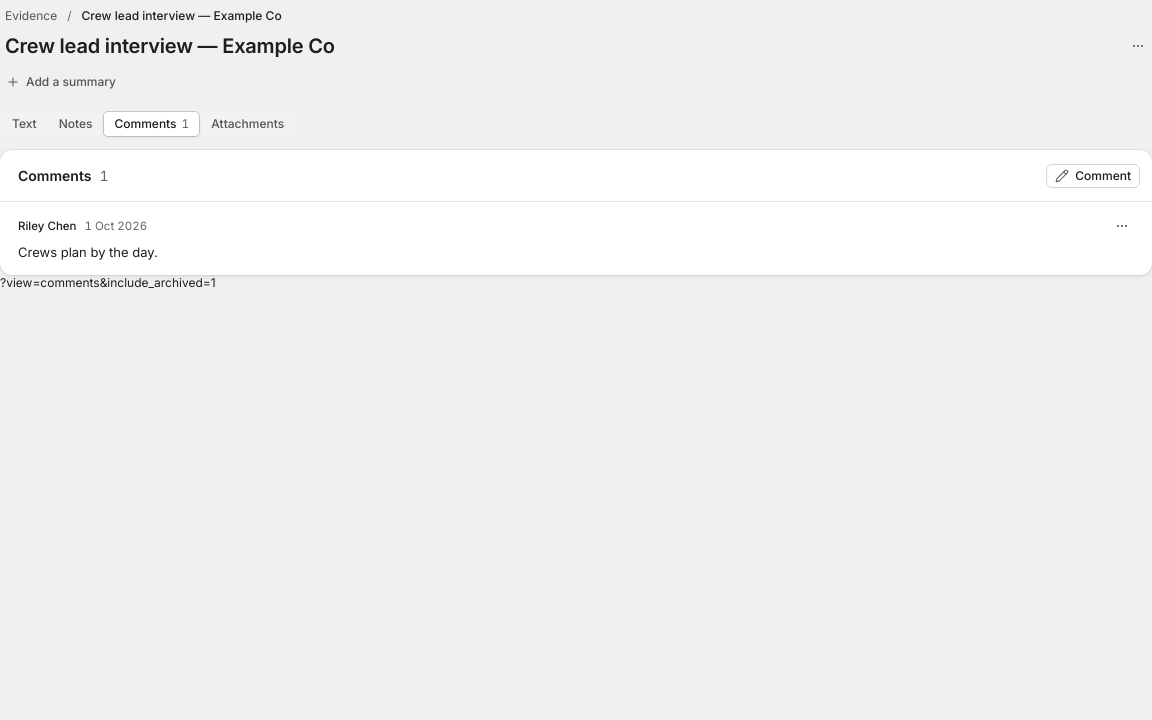
Test case: archiving a comment in the web app › archives without a reason when none is given, and says only when
This screenshot has width=1152, height=720.
Click the button named "Actions for Riley Chen’s comment from 1 Oct 2026, “Crews pla". click: (1122, 226)
box: [1110,214,1134,238]
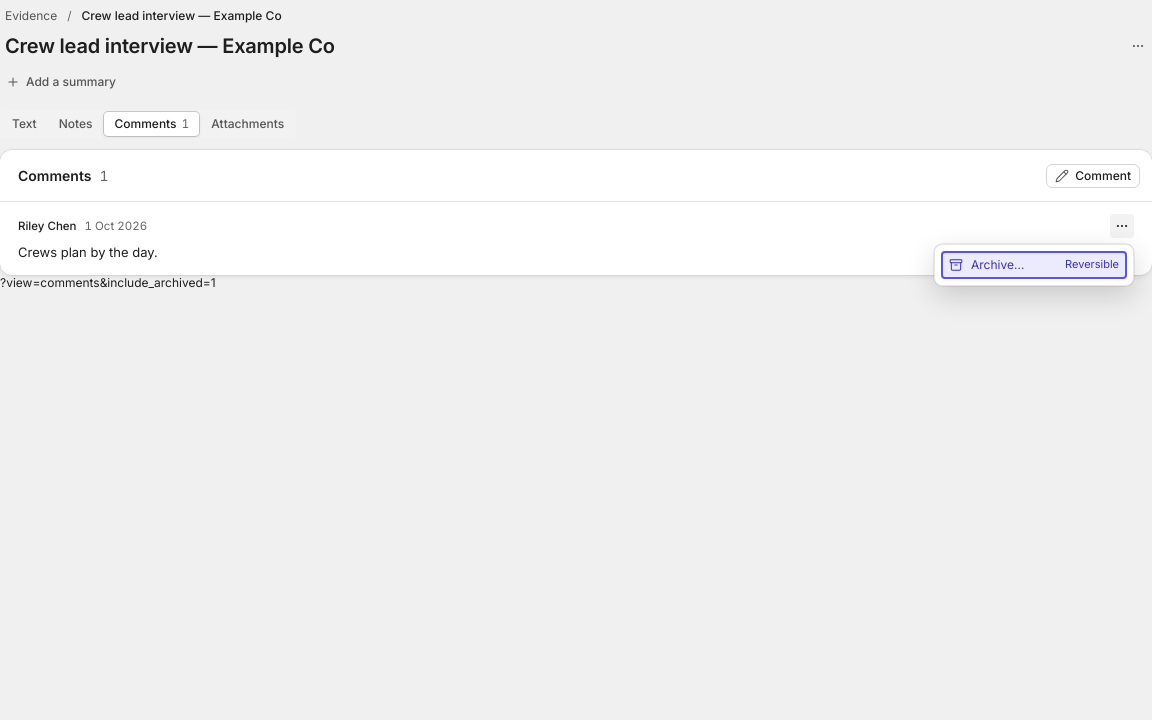
Click the menu item "Archive… Reversible". click: (1034, 265)
box: [941,251,1127,279]
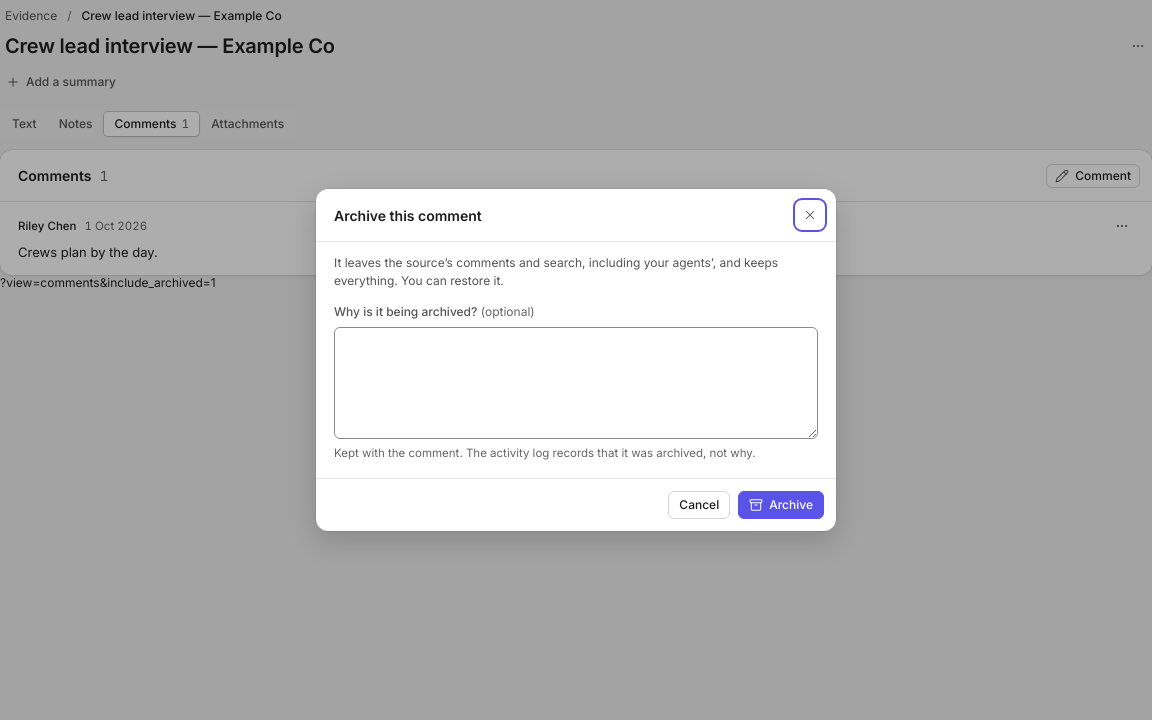
Click the button "Archive". click: (781, 505)
box: [738,491,824,519]
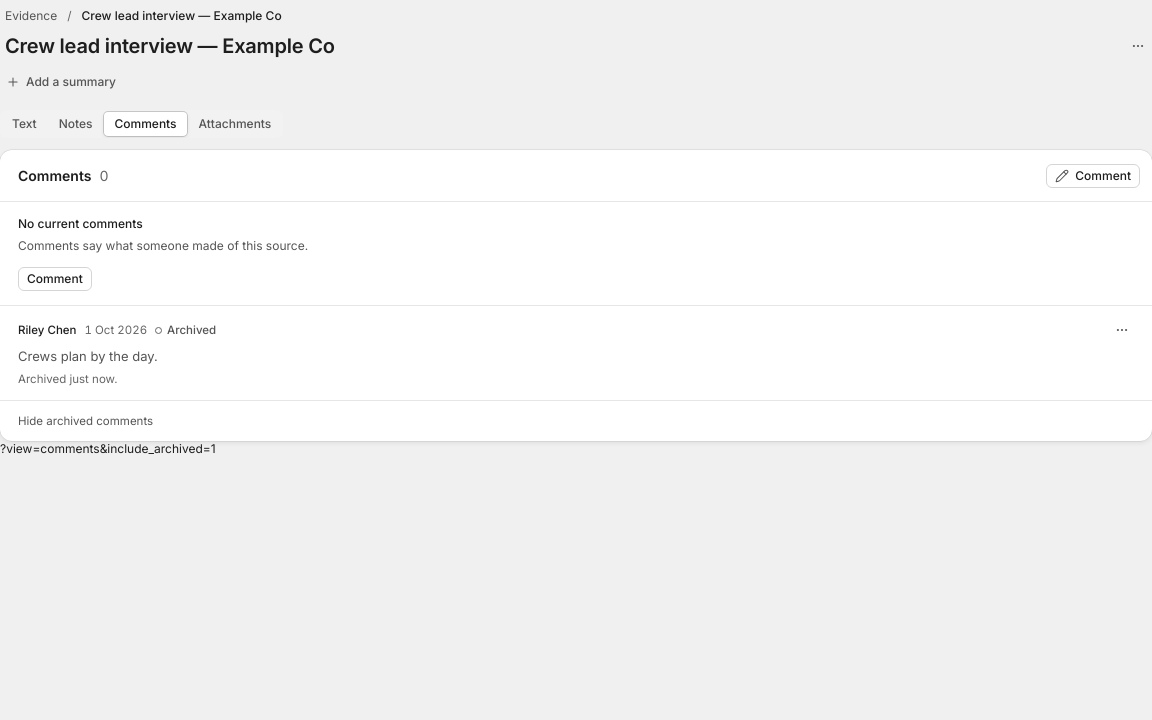
Now the text "No current comments" is shown, box [18,216,143,231]
Now the text with class "comment-archived" reads "Archived just now.", box [18,372,118,386]
